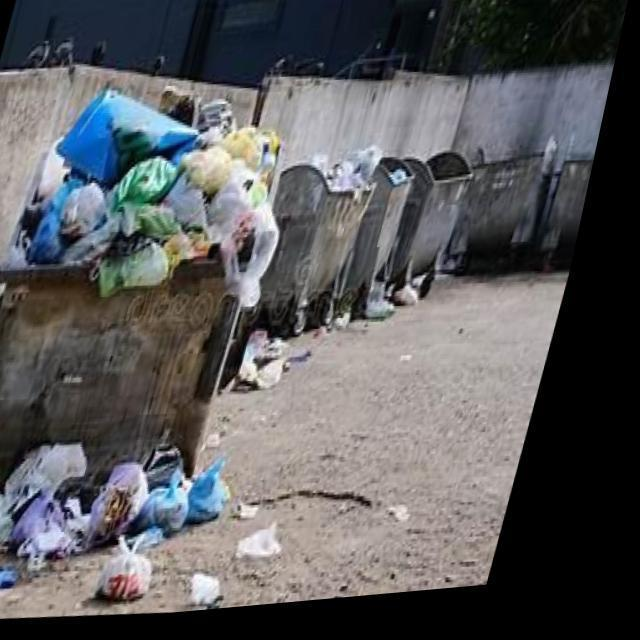Garbage: (40, 94, 291, 312)
Plastic_Bag: (64, 94, 205, 188), (218, 163, 290, 313), (111, 247, 182, 301), (124, 160, 186, 209), (187, 150, 241, 203), (71, 184, 116, 245), (174, 177, 218, 235), (132, 206, 192, 245), (133, 247, 182, 293), (39, 211, 76, 266), (229, 133, 270, 176)
